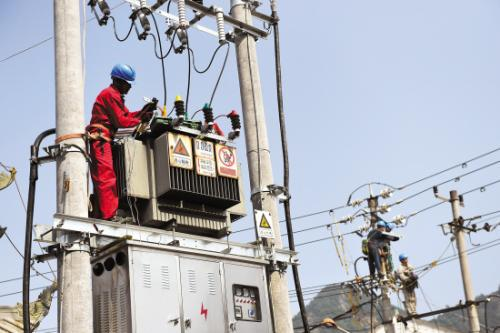helmet: (107, 59, 137, 96), (397, 251, 412, 266), (376, 218, 388, 233)
